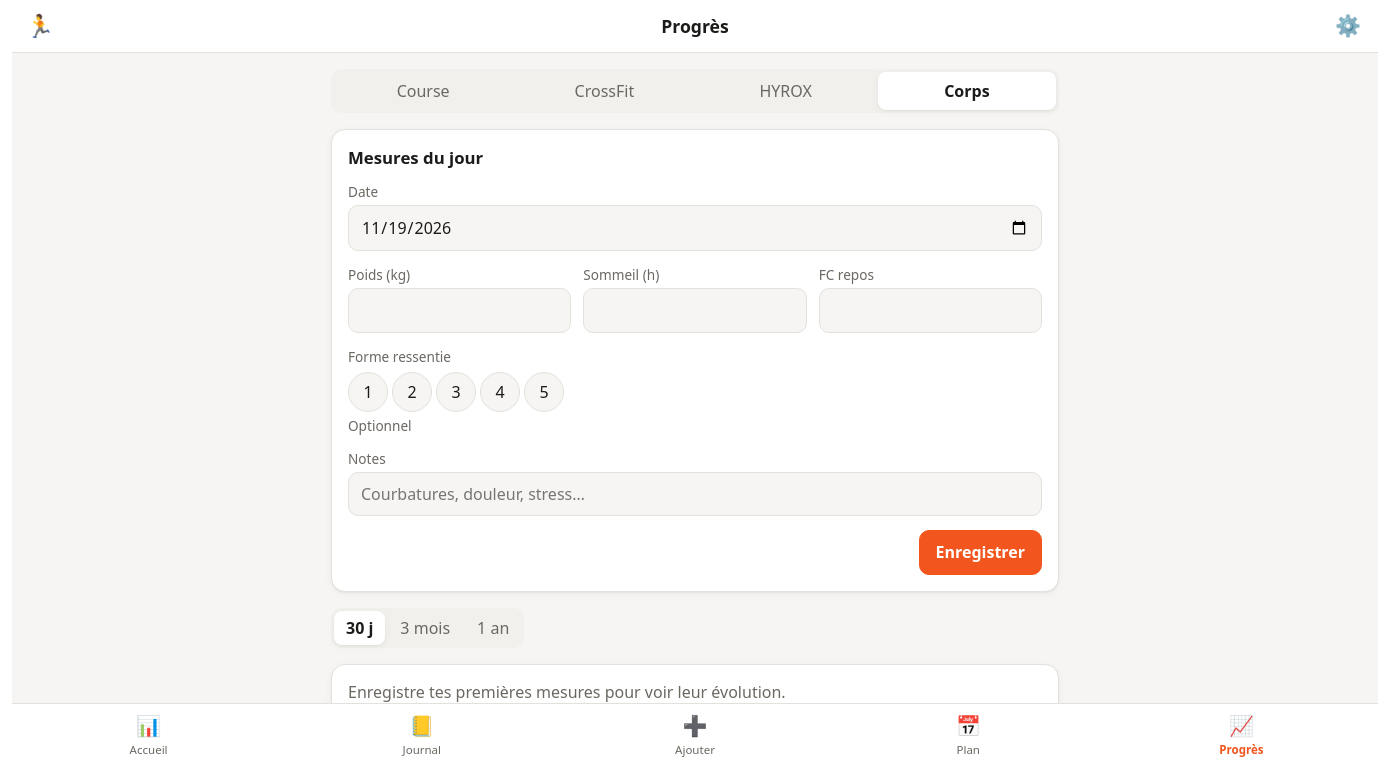
it: App › enregistre des mesures corporelles
This screenshot has width=1390, height=768.
Click the button "Enregistrer" at (980, 552), box x1=918 y1=530 x2=1042 y2=575
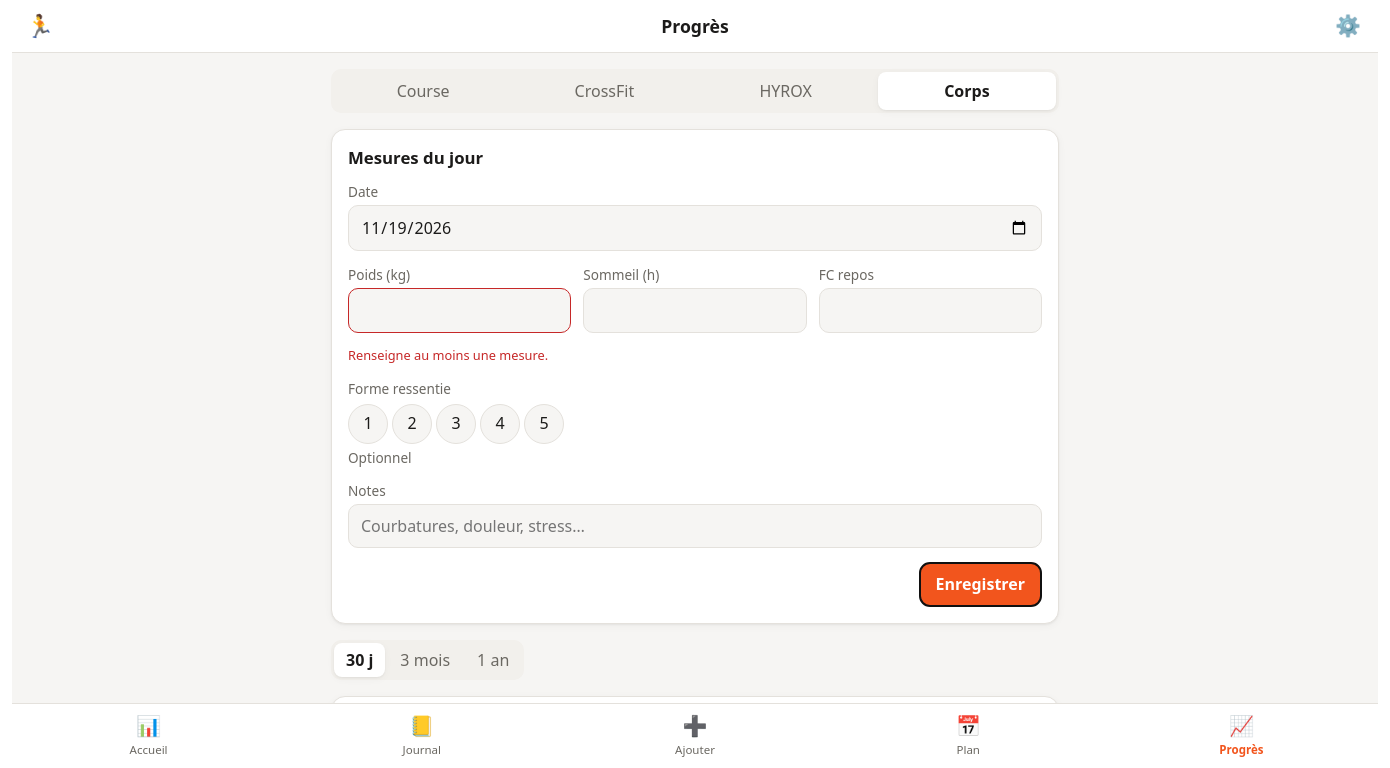
Check: the message shows "Renseigne au moins une mesure", box x1=348 y1=346 x2=548 y2=364
Type "72,4" into the field labelled "Poids (kg)" at (460, 311), box x1=348 y1=288 x2=571 y2=333
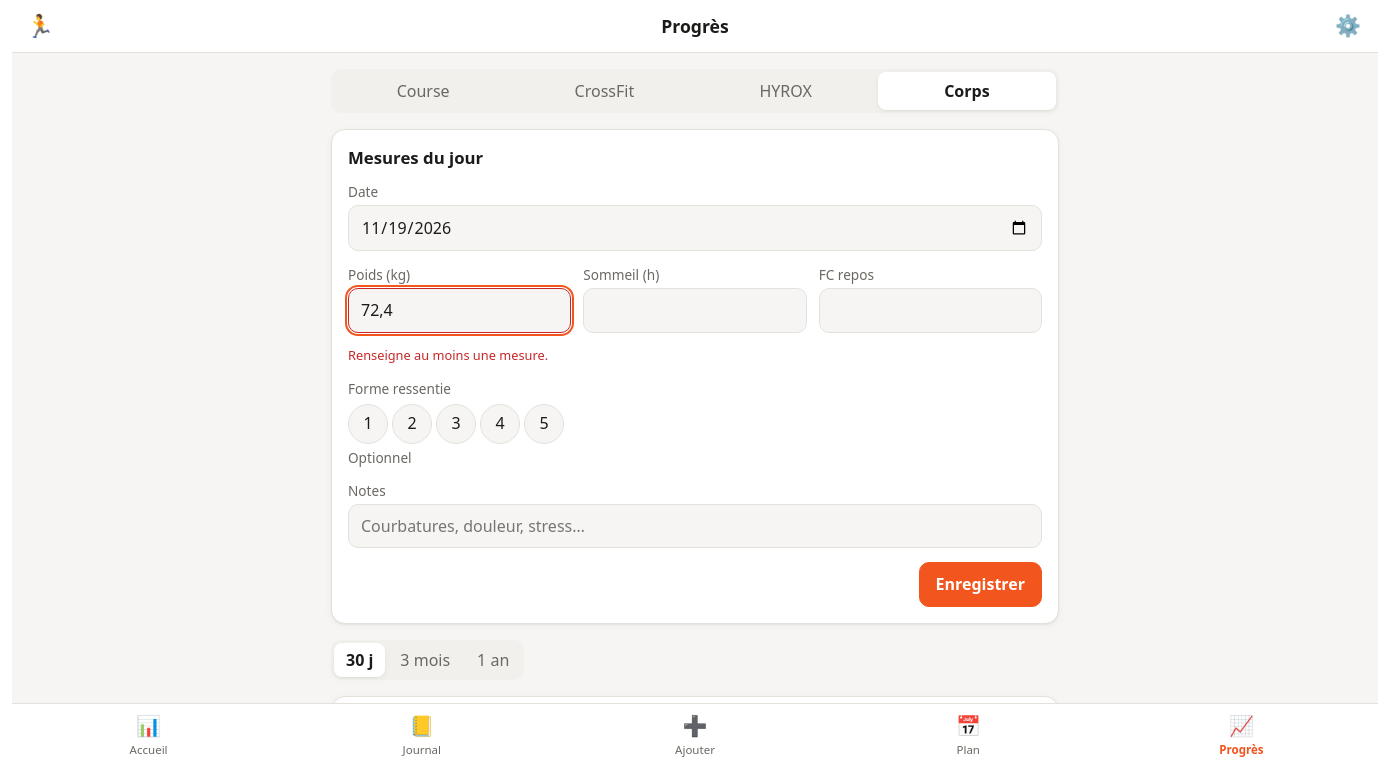
Type "7,5" into the field labelled "Sommeil (h)" at (695, 311), box x1=583 y1=288 x2=807 y2=333
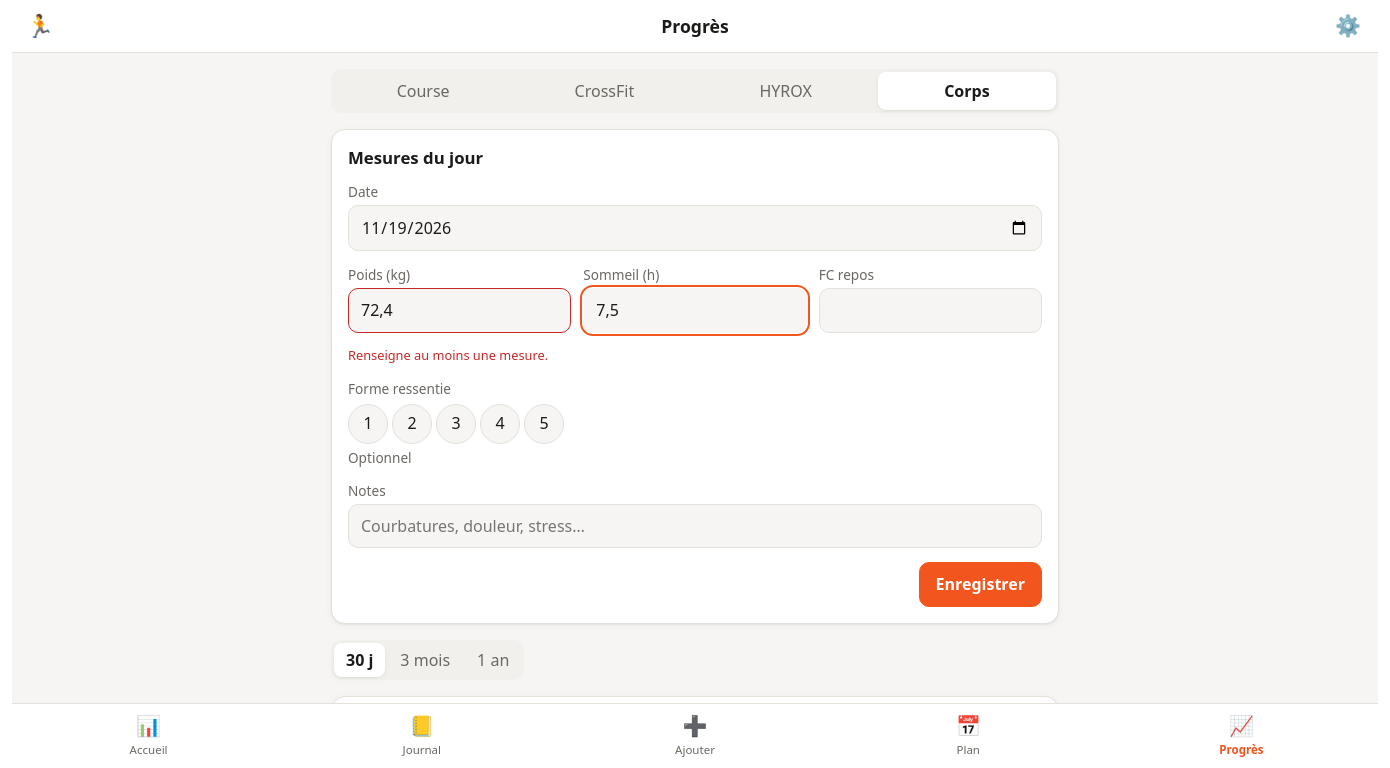
Click the button "4" at (500, 424), box x1=480 y1=404 x2=520 y2=444
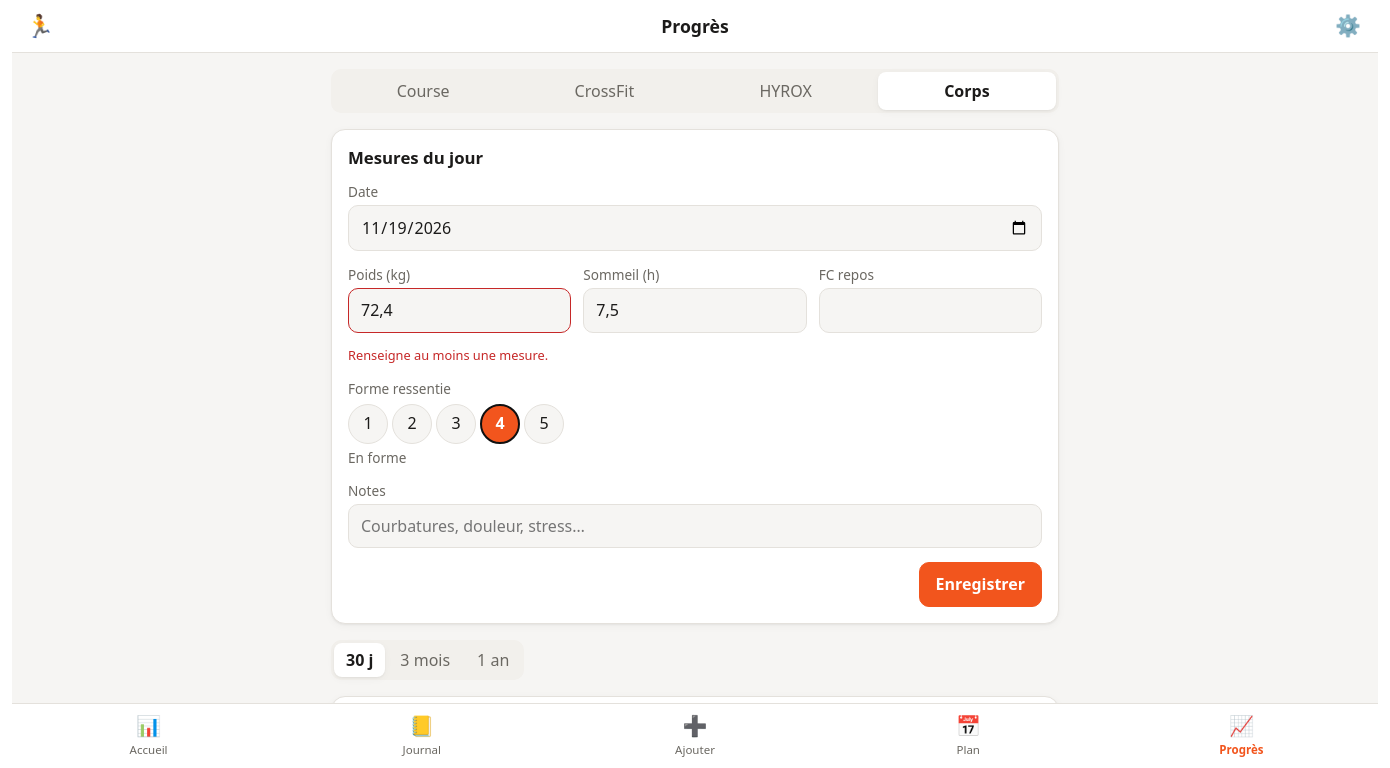
Click the button "Enregistrer" at (980, 584), box x1=918 y1=562 x2=1042 y2=606
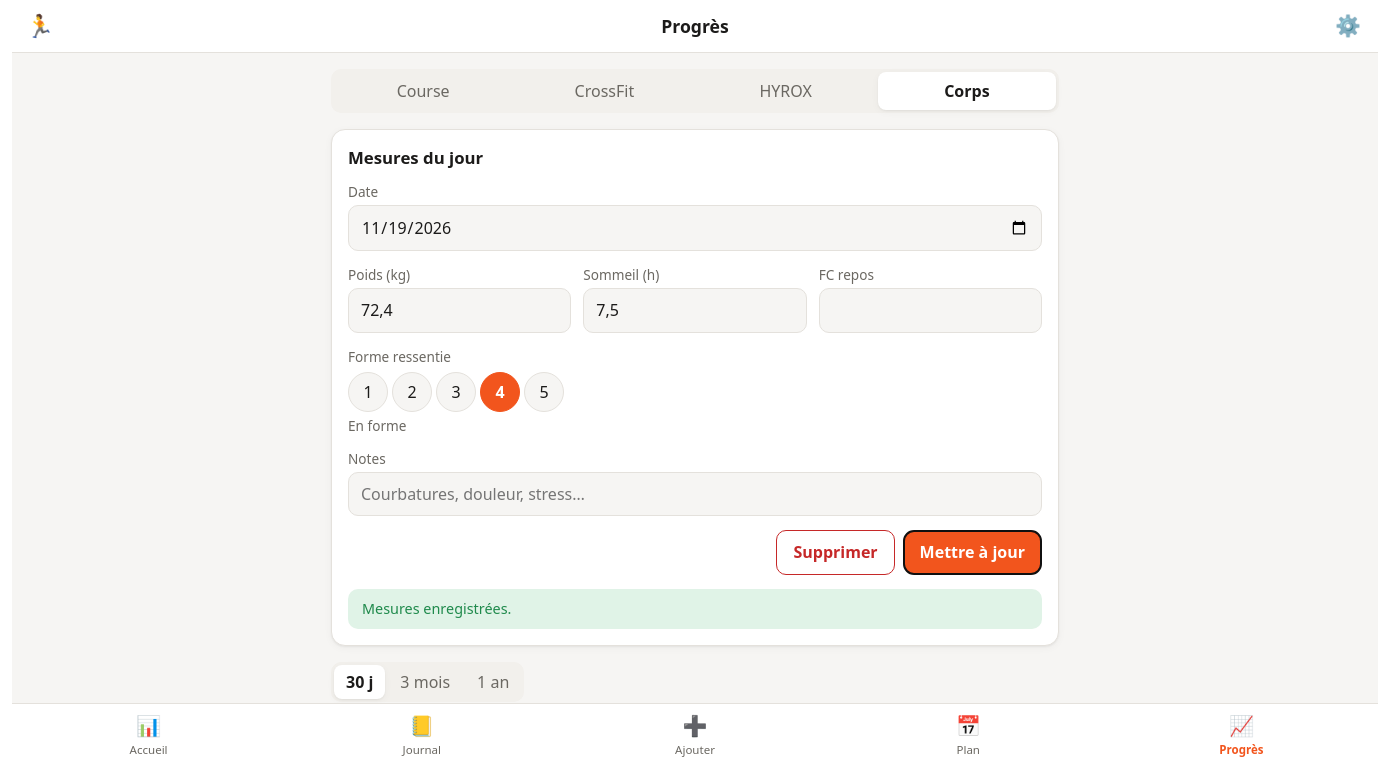
Check: the text "Mesures enregistrées." is shown, box x1=348 y1=589 x2=1042 y2=629
